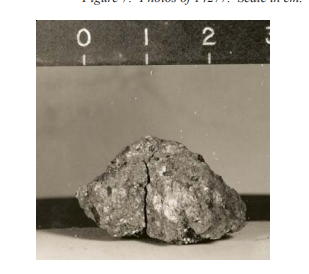Breccia: (63, 109, 258, 250)
